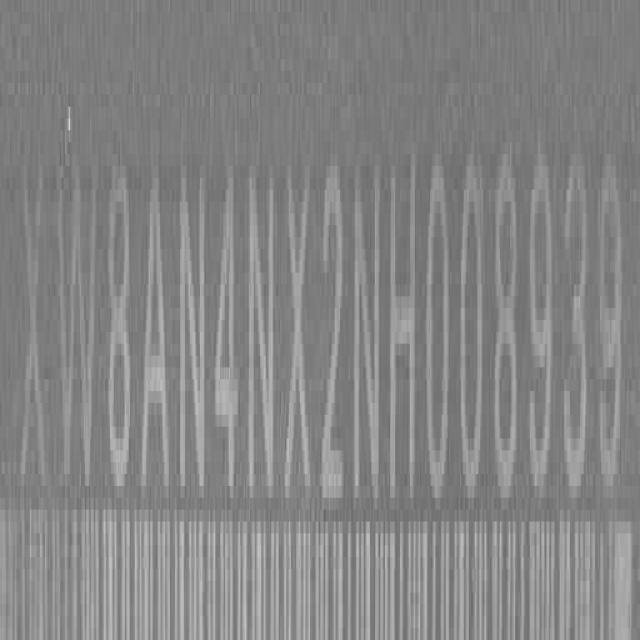0: (456, 155, 484, 508), (427, 155, 453, 510)
2: (320, 164, 345, 514)
3: (566, 159, 592, 507)
4: (213, 167, 240, 507)
8: (495, 160, 523, 509), (108, 168, 137, 500)
9: (528, 158, 556, 508), (597, 162, 624, 505)
A: (142, 168, 172, 506)
H: (391, 151, 420, 511)
N: (354, 155, 386, 513), (250, 169, 279, 511), (181, 168, 209, 508)
W: (61, 162, 100, 506)
X: (19, 167, 48, 508), (286, 167, 314, 514)
